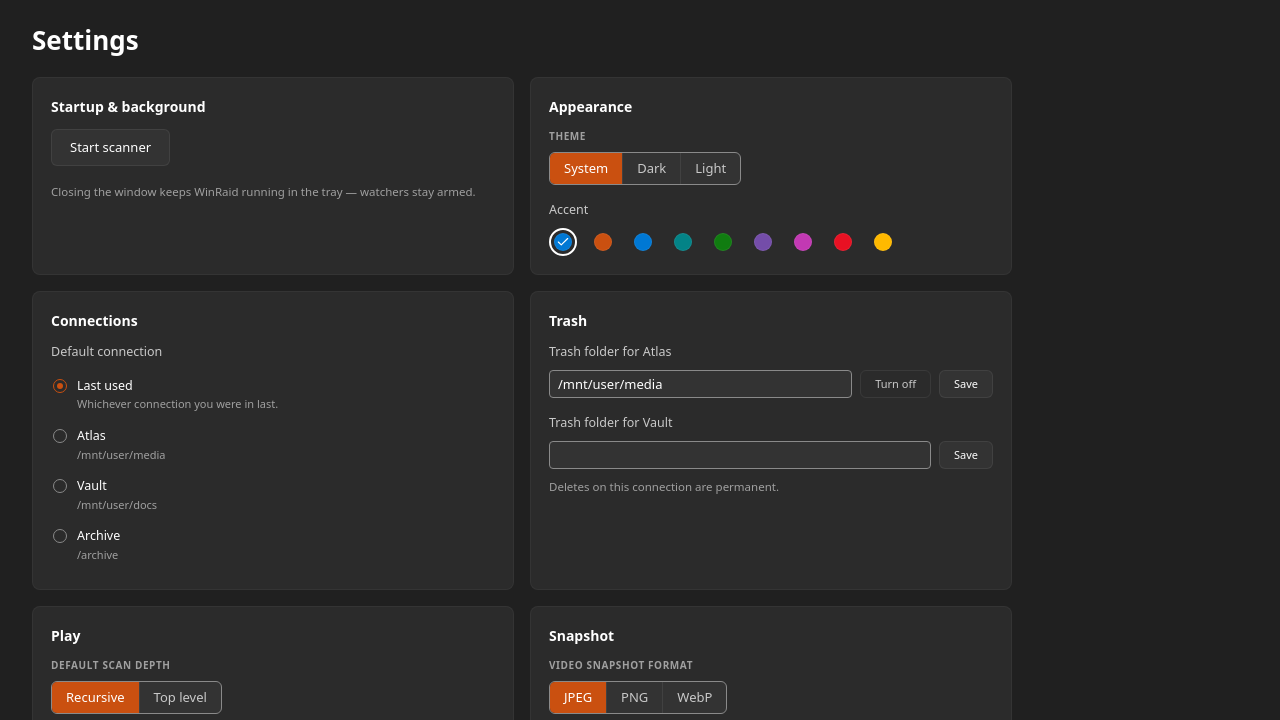
Test: the per-connection trash setting › checks the folder on the NAS, then saves it and confirms
Type "/mnt/user/docs" into the field labelled "Trash folder for Vault" at {"x": 740, "y": 455}, box [549,441,931,469]
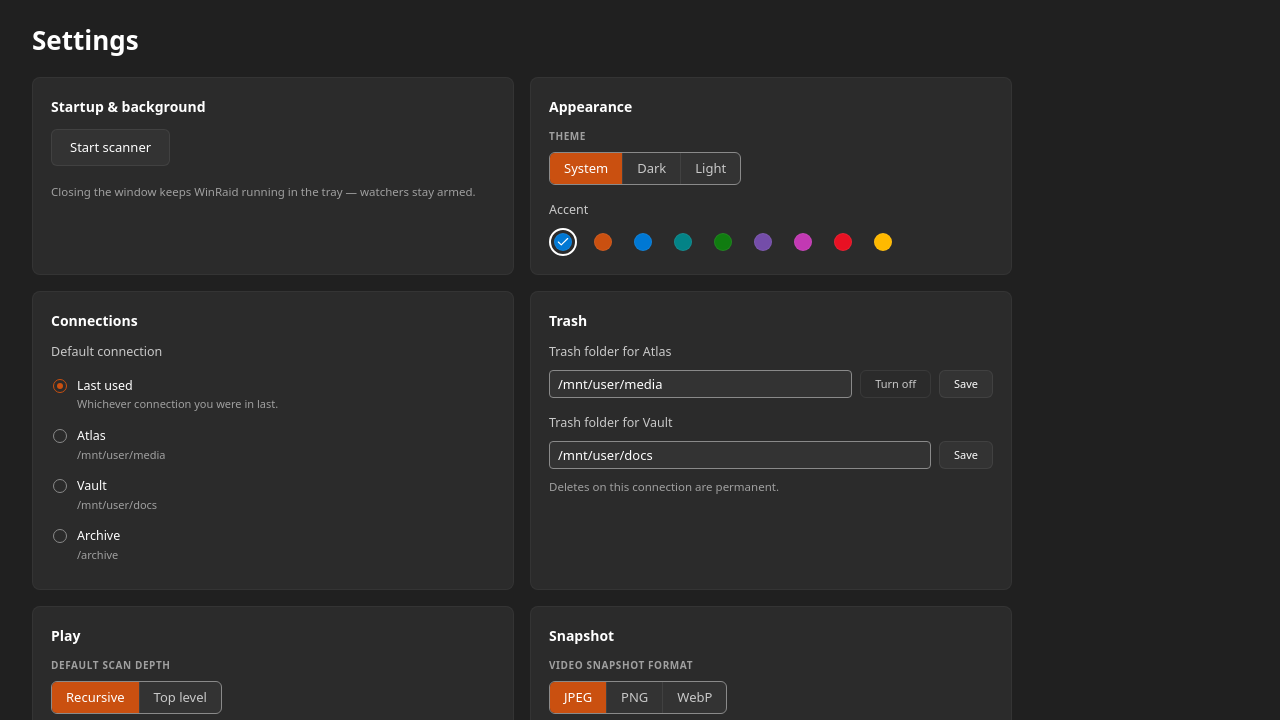
Click the button with aria-label "Save trash folder for Vault" at {"x": 966, "y": 455}, box [939,441,993,469]
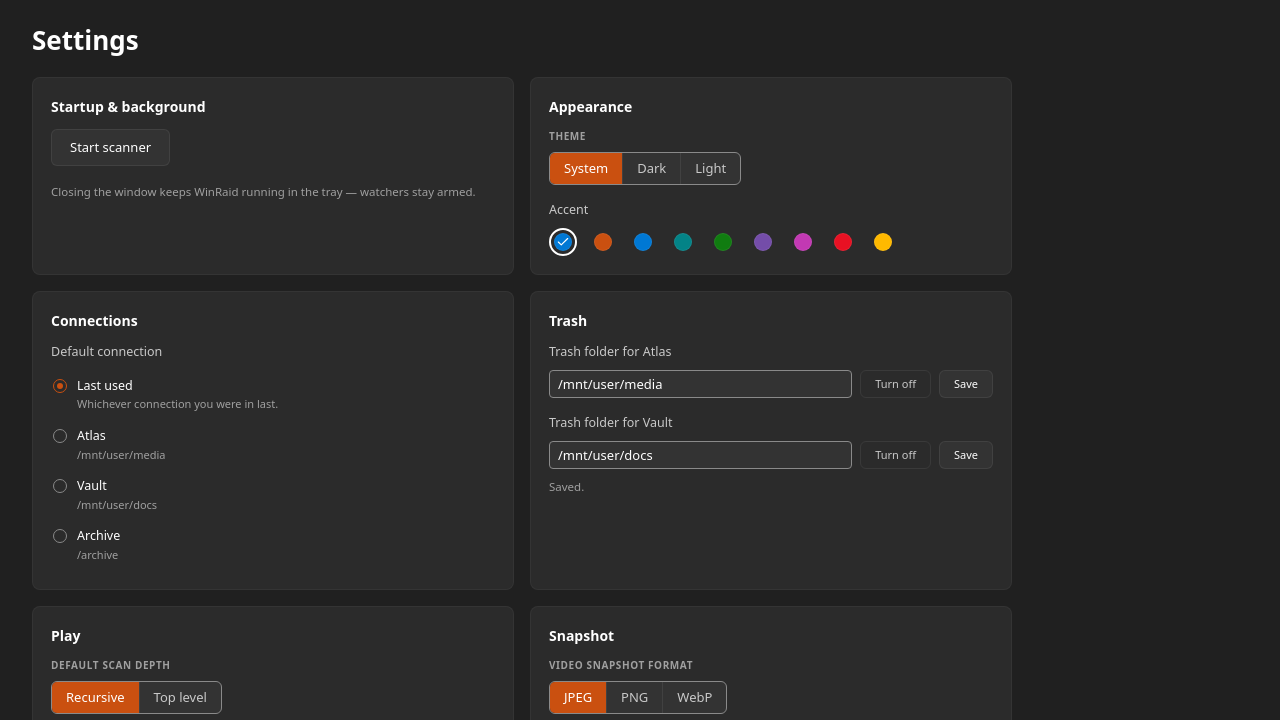
expect the text "Saved." is shown: met, box [549,479,584,494]
